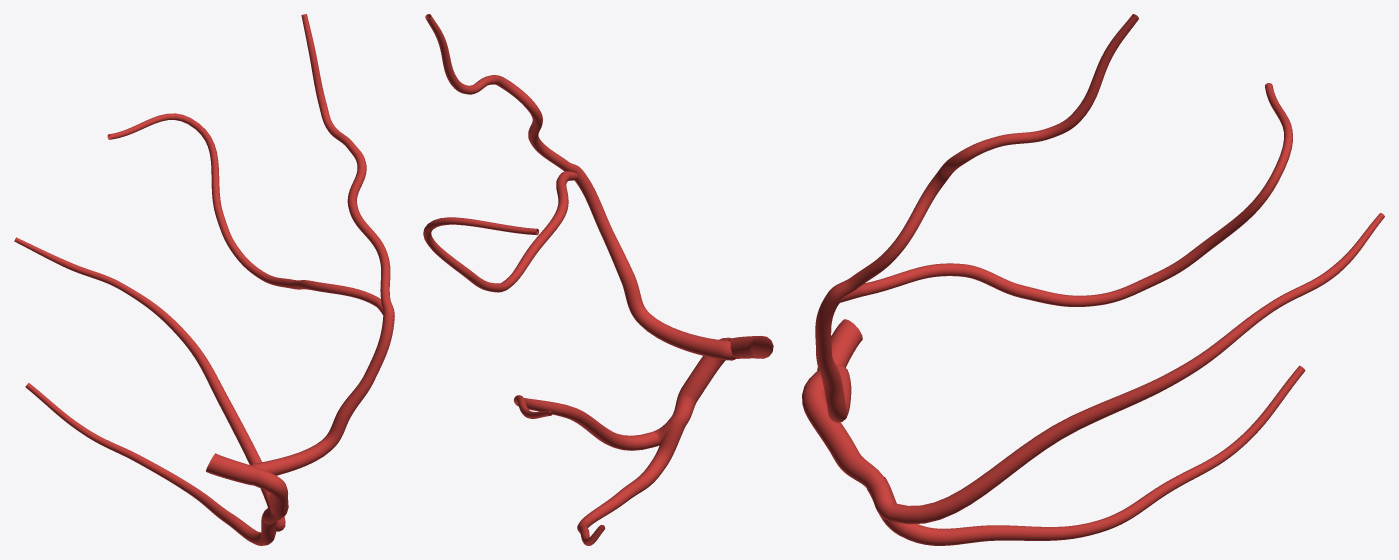
3 renders of one model, left to right at view 1: azimuth 30°, elevation 25°; view 2: azimuth 150°, elevation 25°; view 3: azimuth 270°, elevation 25°, orthographic. The views are drawn at different scales.
Parts seen in each view (by area): view 1: 左侧颞前支; view 2: 左侧颞前支; view 3: 左侧颞前支.
Boxes of the visible parts, x1,y1,x2,y2 form: 左侧颞前支: (14,14,394,545); 左侧颞前支: (423,14,773,545); 左侧颞前支: (802,14,1384,545).
Bounding box in the file's own units: 0.0324 × 0.0624 × 0.0538.
